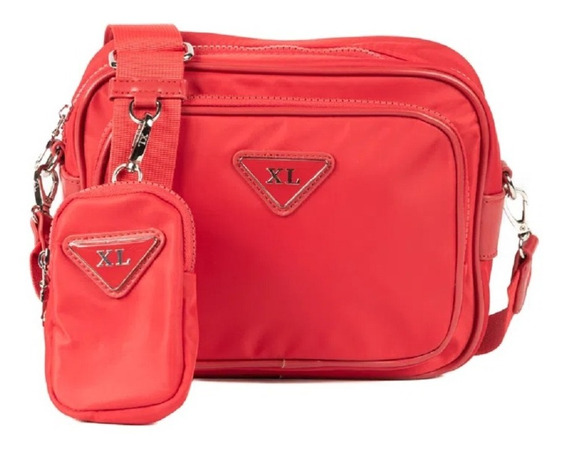cartera: (27, 21, 539, 383)
